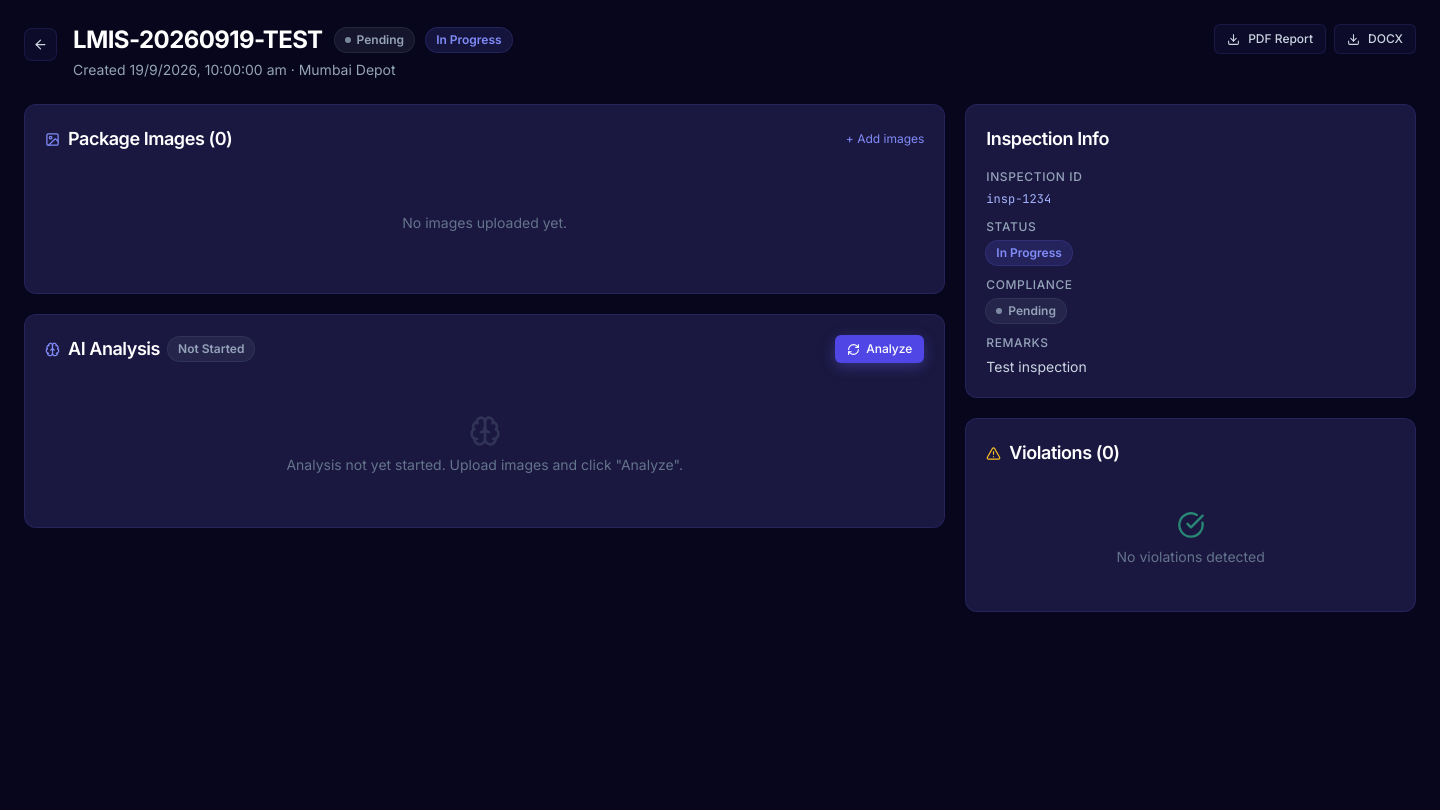
InspectionDetailPage — Analyze Action › surfaces user-friendly error when analyzing an inspection with no images
Expected: the heading "LMIS-20260919-TEST" is shown, left=73, top=24, right=322, bottom=56
Click the button "Analyze" at (880, 349), box left=835, top=335, right=924, bottom=363
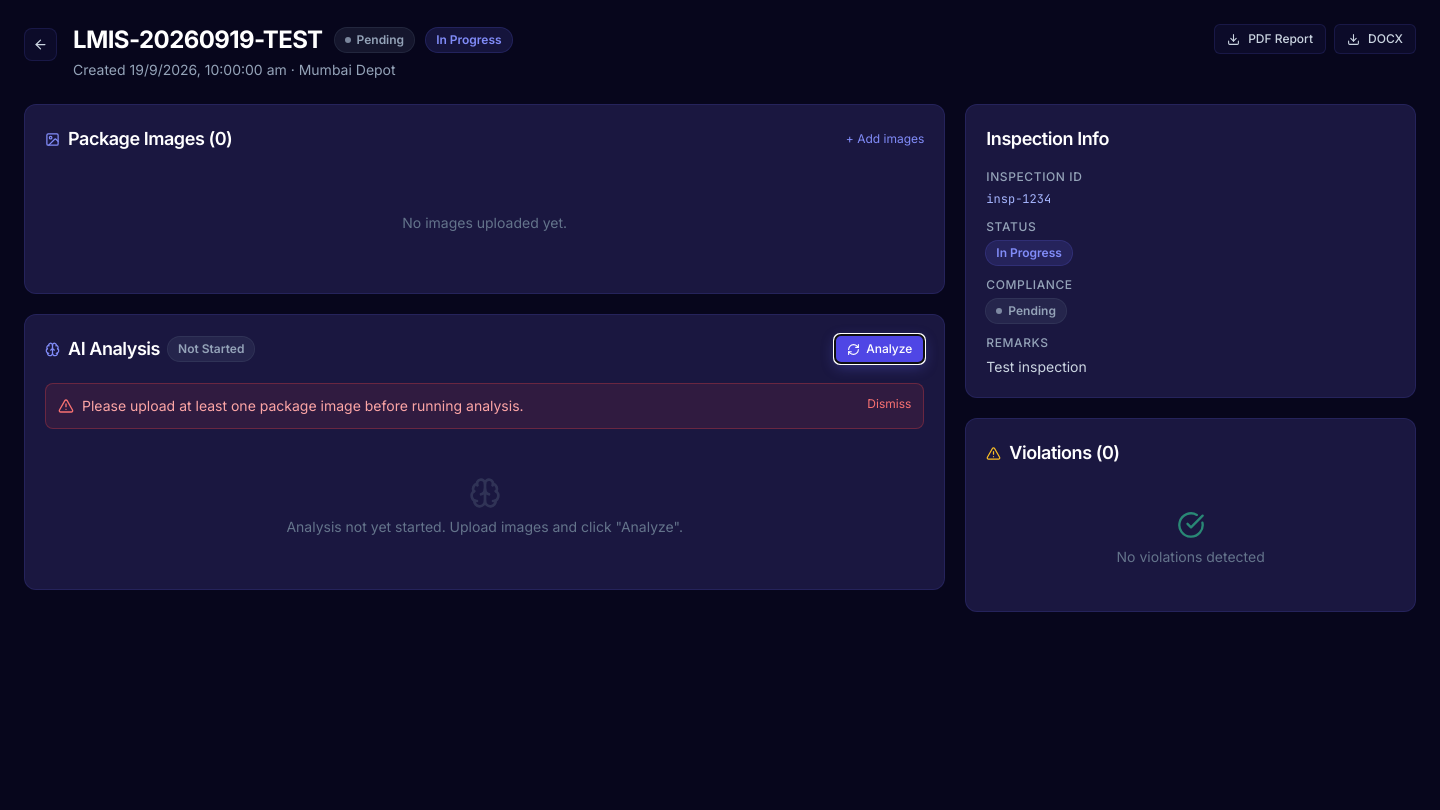
Expected: the message "Please upload at least one package image before running analysis. Dismiss" is shown, left=45, top=383, right=924, bottom=429
Expected: the message shows "Please upload at least one package image", left=82, top=397, right=524, bottom=414
